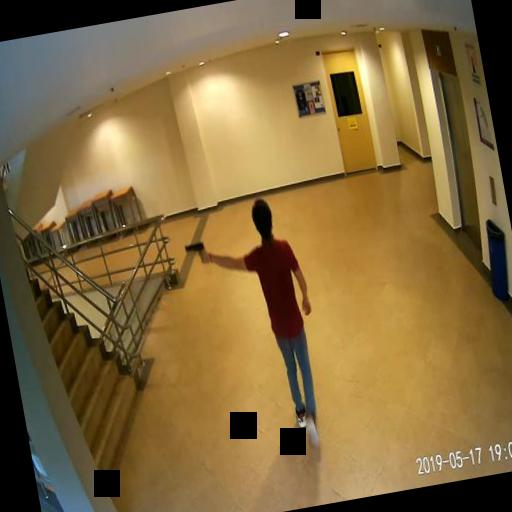Handgun: (182, 238, 206, 266)
